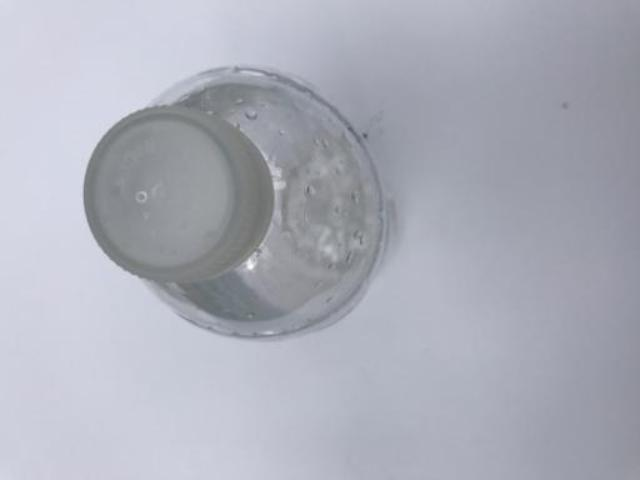plastic: (82, 65, 384, 335)
